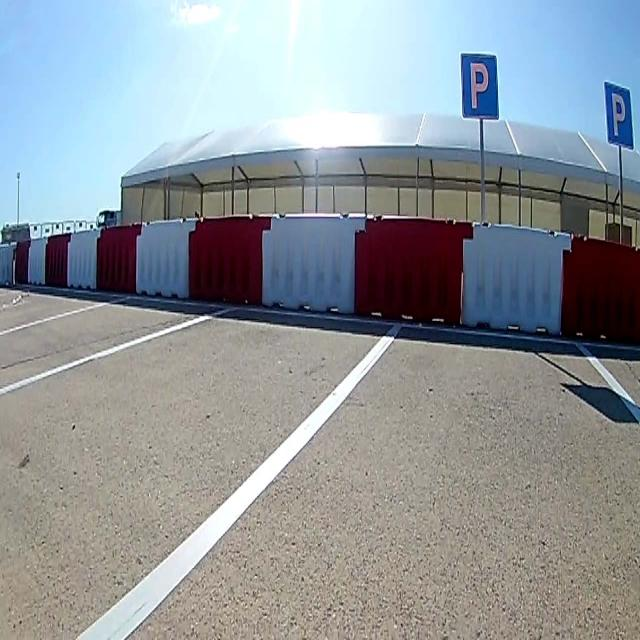park: (460, 53, 498, 119), (604, 83, 634, 149)
